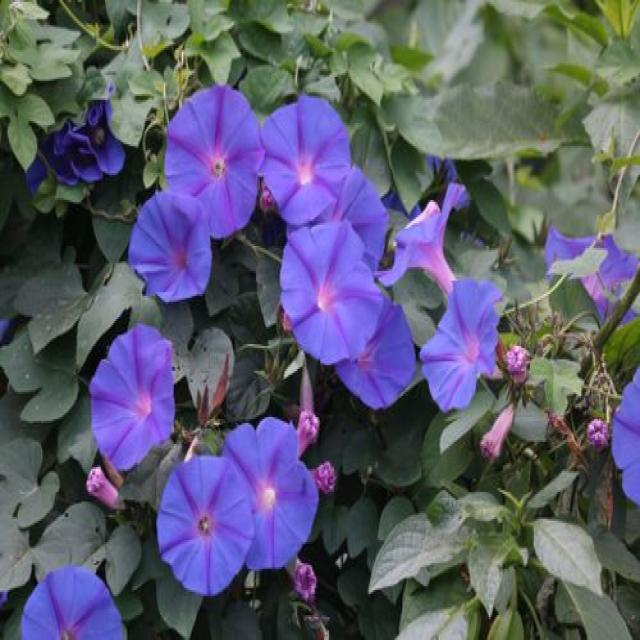ipomoea: (160, 81, 266, 242), (275, 217, 384, 369), (220, 413, 321, 575), (152, 452, 256, 600), (86, 319, 179, 477), (259, 90, 353, 229), (418, 275, 504, 417), (125, 186, 215, 308), (17, 561, 126, 638), (606, 354, 638, 519)
